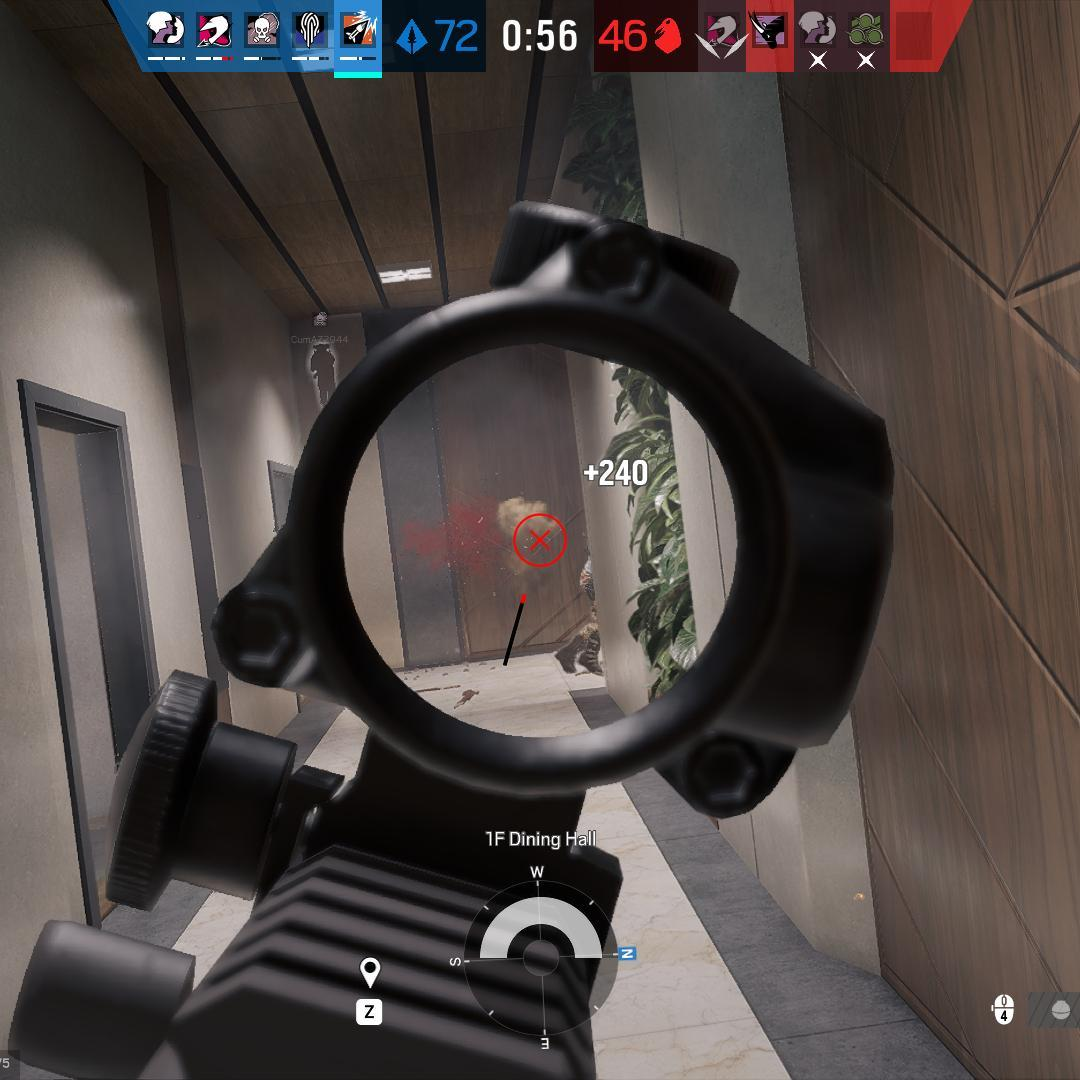Character: (551, 552, 604, 681)
Friend_label: (293, 310, 351, 349)
